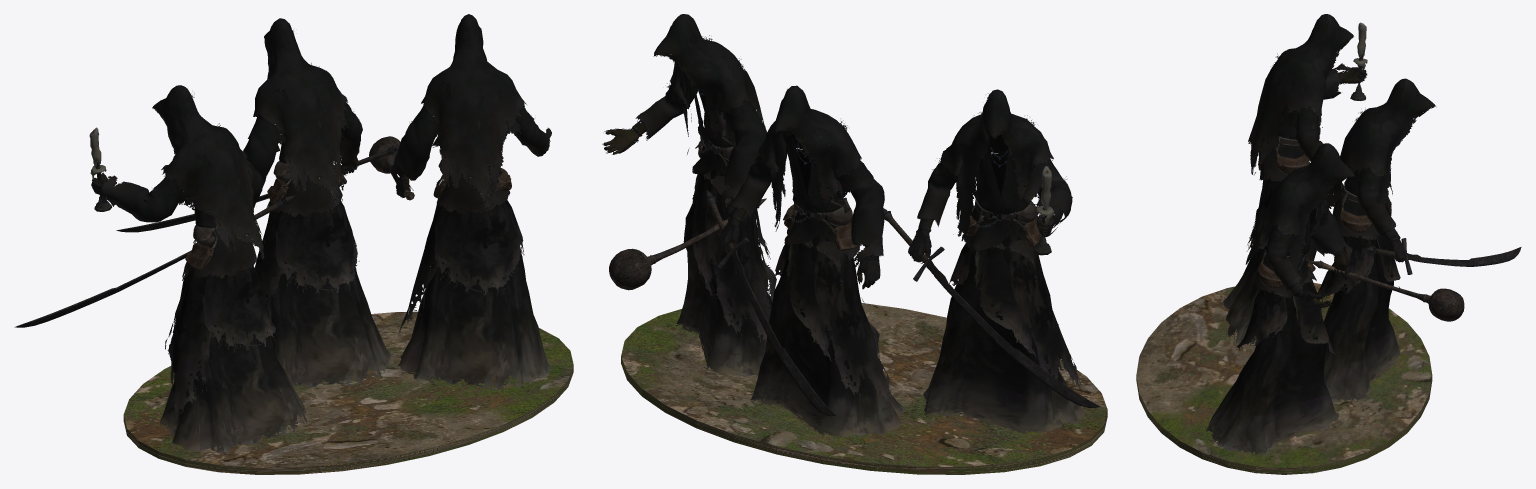
File: shadows-of-yharnam.glb
The picture shows the model from 3 angles, left to right: view 1: azimuth 30°, elevation 25°; view 2: azimuth 150°, elevation 25°; view 3: azimuth 270°, elevation 25°; orthographic projection. The views are drawn at different scales.
Parts seen in each view (by area): view 1: 24-Cylinder.obj, 18-bb_18_2, 40-bb_40_2, 1-bb_1_2, 18-bb_18_0, 40-bb_40_0, 1-bb_1_0, 40-bb_40_3, 1-bb_1_3, 18-bb_18_3, 40-bb_40_4; view 2: 24-Cylinder.obj, 40-bb_40_2, 1-bb_1_2, 1-bb_1_0, 40-bb_40_0, 18-bb_18_2, 18-bb_18_0, 40-bb_40_3, 1-bb_1_3, 18-bb_18_3, 1-bb_1_1, 40-bb_40_1 (+2 smaller); view 3: 24-Cylinder.obj, 18-bb_18_2, 40-bb_40_0, 1-bb_1_2, 18-bb_18_0, 1-bb_1_0, 40-bb_40_2, 18-bb_18_3, 1-bb_1_3, 18-bb_18_1, 40-bb_40_4, 1-bb_1_1 (+1 smaller).
Part boxes in pixels (x1,y1,x2,y2): 24-Cylinder.obj: [123, 311, 573, 474]; 18-bb_18_2: [398, 200, 552, 389]; 40-bb_40_2: [160, 265, 307, 453]; 1-bb_1_2: [255, 201, 391, 386]; 18-bb_18_0: [390, 14, 550, 215]; 40-bb_40_0: [99, 85, 265, 280]; 1-bb_1_0: [243, 18, 362, 218]; 40-bb_40_3: [14, 195, 295, 327]; 1-bb_1_3: [116, 145, 399, 232]; 18-bb_18_3: [369, 136, 414, 200]; 40-bb_40_4: [89, 127, 111, 211]; 24-Cylinder.obj: [621, 303, 1107, 474]; 40-bb_40_2: [923, 224, 1085, 434]; 1-bb_1_2: [750, 226, 905, 437]; 1-bb_1_0: [730, 85, 884, 274]; 40-bb_40_0: [917, 89, 1072, 270]; 18-bb_18_2: [676, 163, 776, 376]; 18-bb_18_0: [635, 14, 766, 207]; 40-bb_40_3: [883, 208, 1100, 407]; 1-bb_1_3: [705, 189, 835, 416]; 18-bb_18_3: [609, 198, 766, 290]; 1-bb_1_1: [718, 207, 880, 289]; 40-bb_40_1: [908, 206, 1063, 263]; 24-Cylinder.obj: [1136, 282, 1432, 474]; 18-bb_18_2: [1206, 264, 1338, 455]; 40-bb_40_0: [1248, 14, 1358, 181]; 1-bb_1_2: [1317, 233, 1400, 402]; 18-bb_18_0: [1245, 143, 1355, 298]; 1-bb_1_0: [1327, 78, 1435, 240]; 40-bb_40_2: [1219, 177, 1316, 348]; 18-bb_18_3: [1309, 260, 1464, 321]; 1-bb_1_3: [1365, 238, 1521, 274]; 18-bb_18_1: [1288, 248, 1350, 307]; 40-bb_40_4: [1350, 22, 1367, 100]; 1-bb_1_1: [1375, 196, 1406, 262].
Bounding box in the file's own units: 3.55 × 2.25 × 2.6.
Materials: 7 (7 with a texture image).
